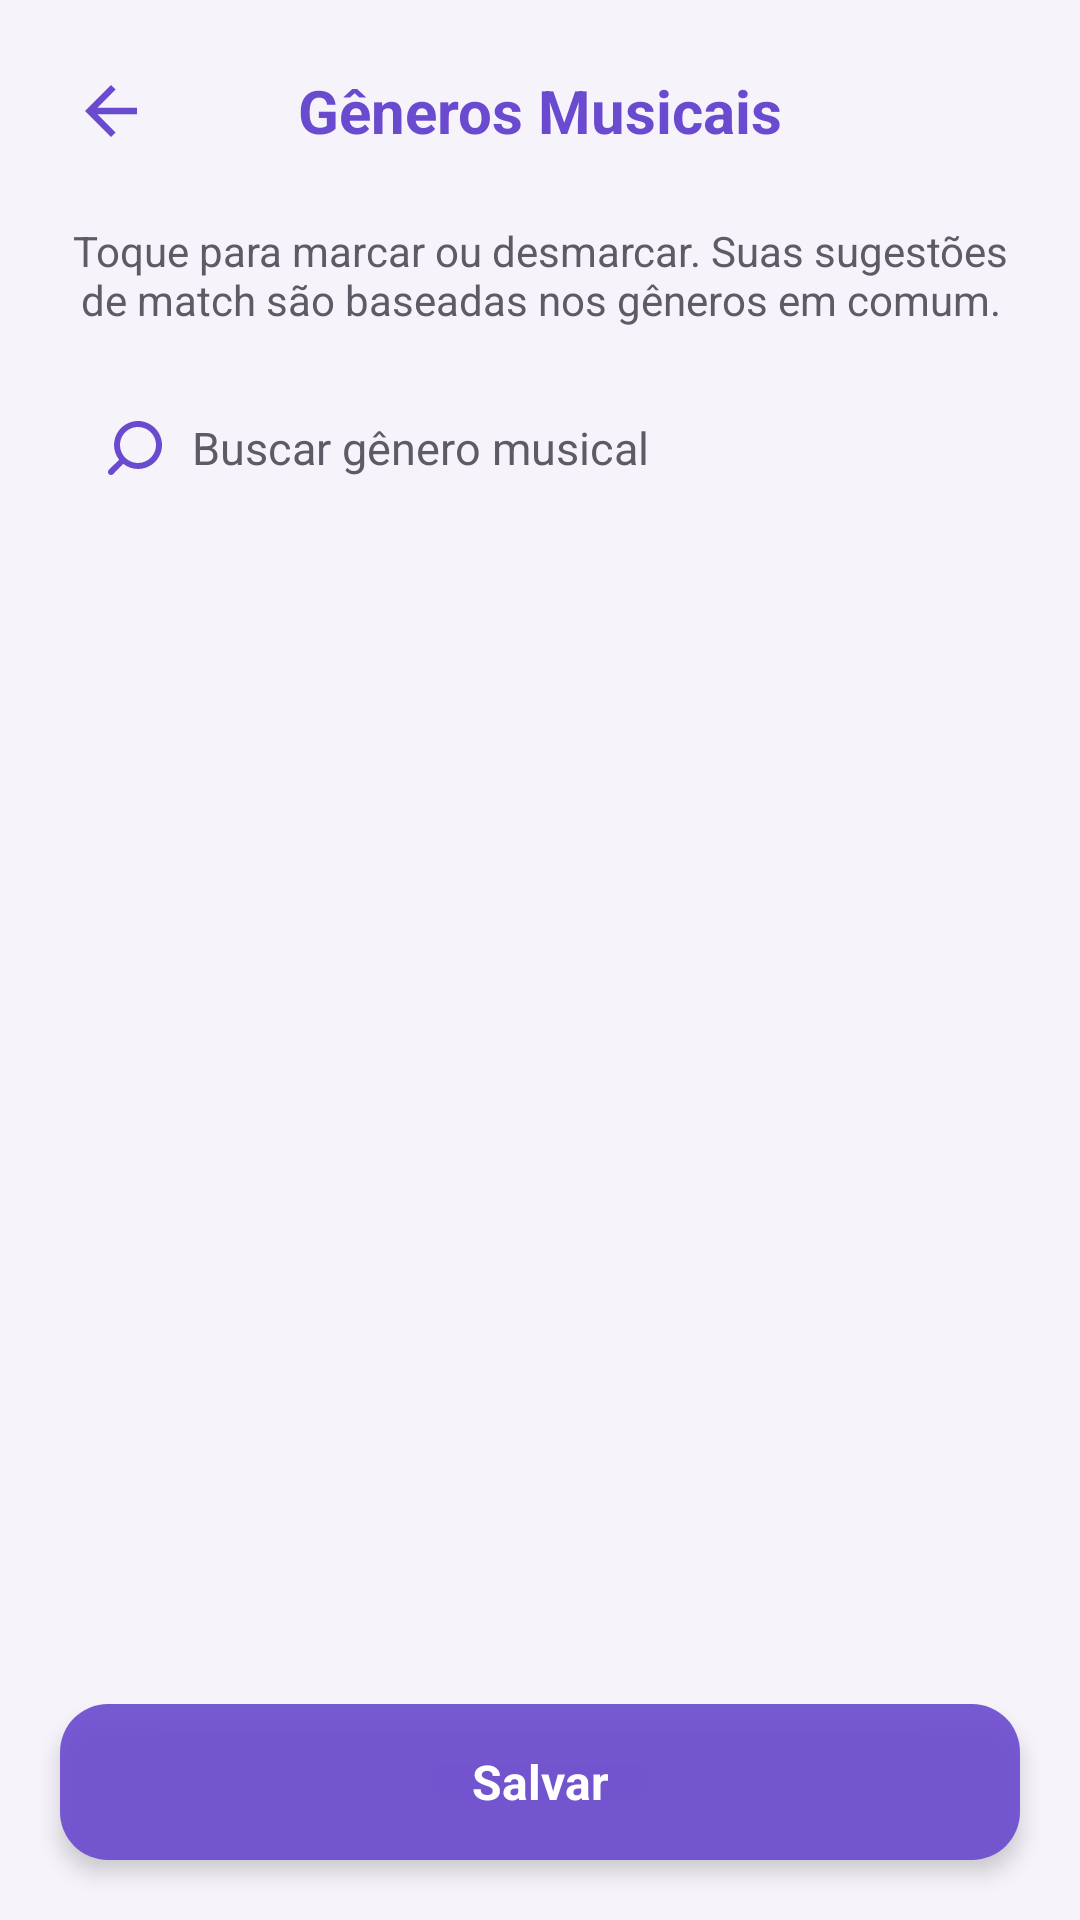

Locate icon controls on the screen. Image size 1080 × 1920, boxes as box=[x1, y1, x2, y2].
back: box=[85, 85, 137, 137]
search: box=[108, 421, 162, 475]
